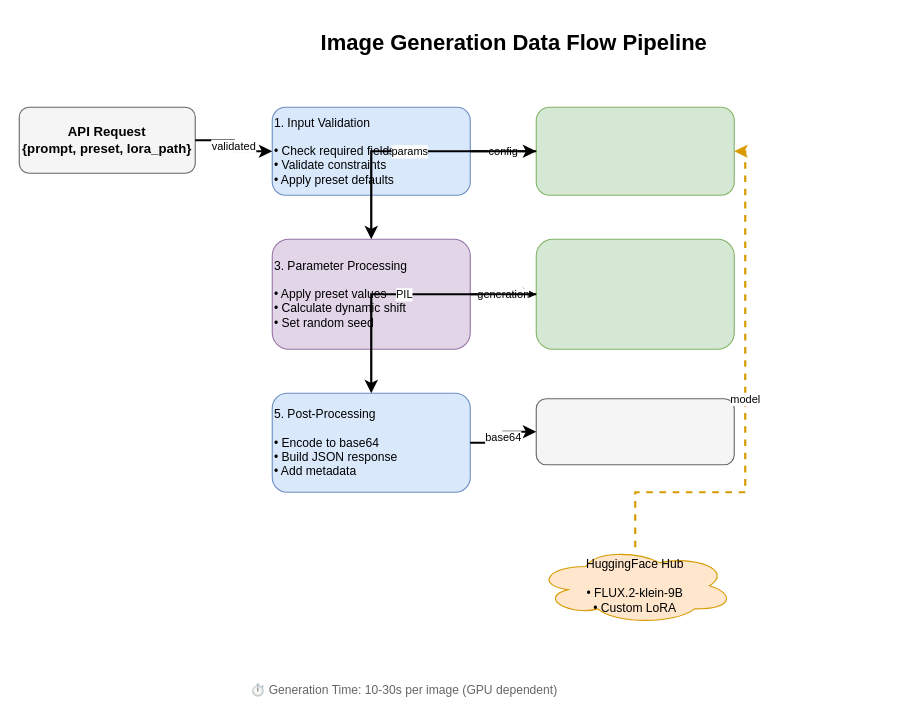
This 919x719 diagram has some shape labels left out. Each missing label, with the centre of its shape:
2. Pipeline Init • Load FLUX.2 model • Load LoRA weights • Apply memory opts: (x=634, y=150)
4. Image Generation • FluxPipeline() • Flow matching • Joint attention: (x=634, y=293)
API Response {images[], metadata}: (x=634, y=431)
